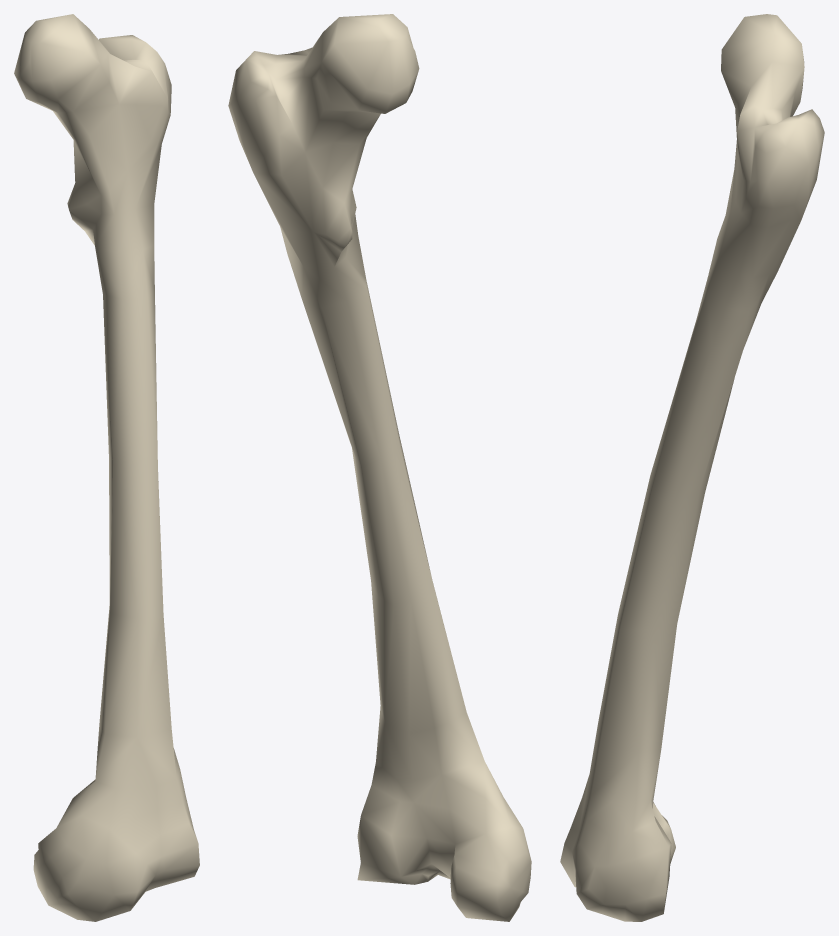
File: leftthigh.obj
3 views of the same model, side by side, from view 1: azimuth 30°, elevation 25°; view 2: azimuth 150°, elevation 25°; view 3: azimuth 270°, elevation 25° (orthographic). The views are drawn at different scales.
Visible parts, largest first — view 1: Left_Thigh; view 2: Left_Thigh; view 3: Left_Thigh.
Boxes of the visible parts, box(x1,y1,x2,y2) form: Left_Thigh: box(14, 14, 199, 921); Left_Thigh: box(228, 14, 531, 921); Left_Thigh: box(560, 14, 824, 921).
Bounding box in the file's own units: 4.65 × 19.39 × 5.24.
